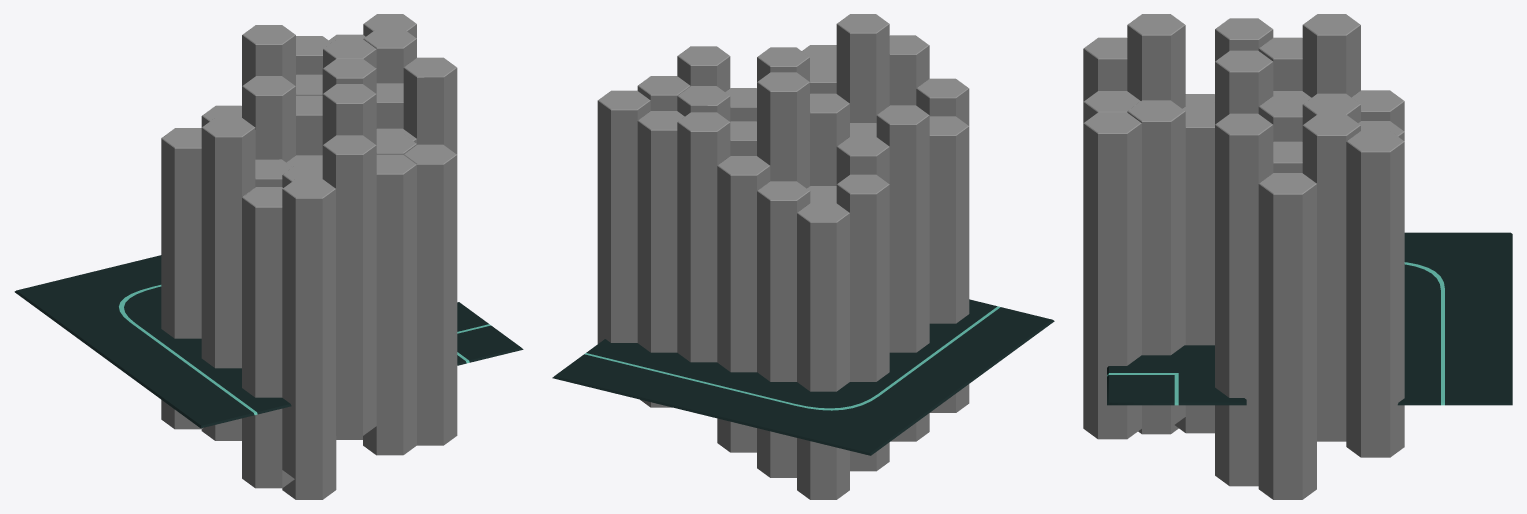
The model's file is Walls_Corner_Var00.fbx.
3 renders of one model, left to right at view 1: azimuth 30°, elevation 25°; view 2: azimuth 150°, elevation 25°; view 3: azimuth 270°, elevation 25°, orthographic. The views are drawn at different scales.
Parts seen in each view (by area): view 1: Walls_Corner_Var00; view 2: Walls_Corner_Var00; view 3: Walls_Corner_Var00.
Boxes of the visible parts, box(x1,y1,x2,y2) form: Walls_Corner_Var00: box(14, 14, 523, 499); Walls_Corner_Var00: box(552, 14, 1054, 499); Walls_Corner_Var00: box(1083, 14, 1512, 499).
Bounding box in the file's own units: 619 × 687 × 635.
